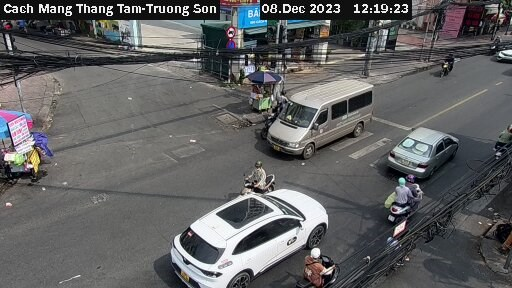car: (164, 185, 328, 280), (262, 77, 375, 154), (387, 115, 463, 179), (500, 45, 512, 61)
motorbike: (224, 159, 297, 201), (376, 173, 426, 226), (287, 249, 349, 288), (434, 48, 462, 79)
